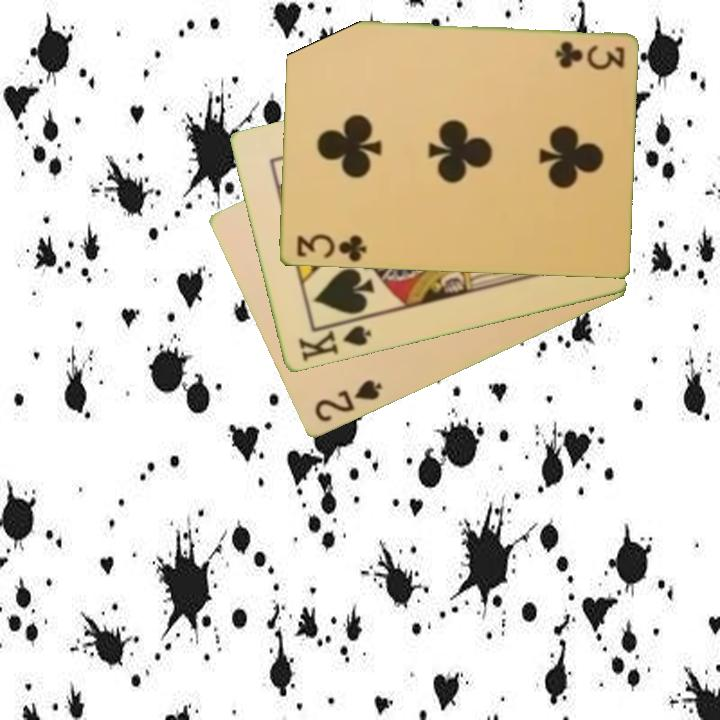2s: (310, 376, 385, 426)
3c: (292, 230, 369, 265), (551, 38, 627, 69)
Ks: (294, 315, 374, 365)
